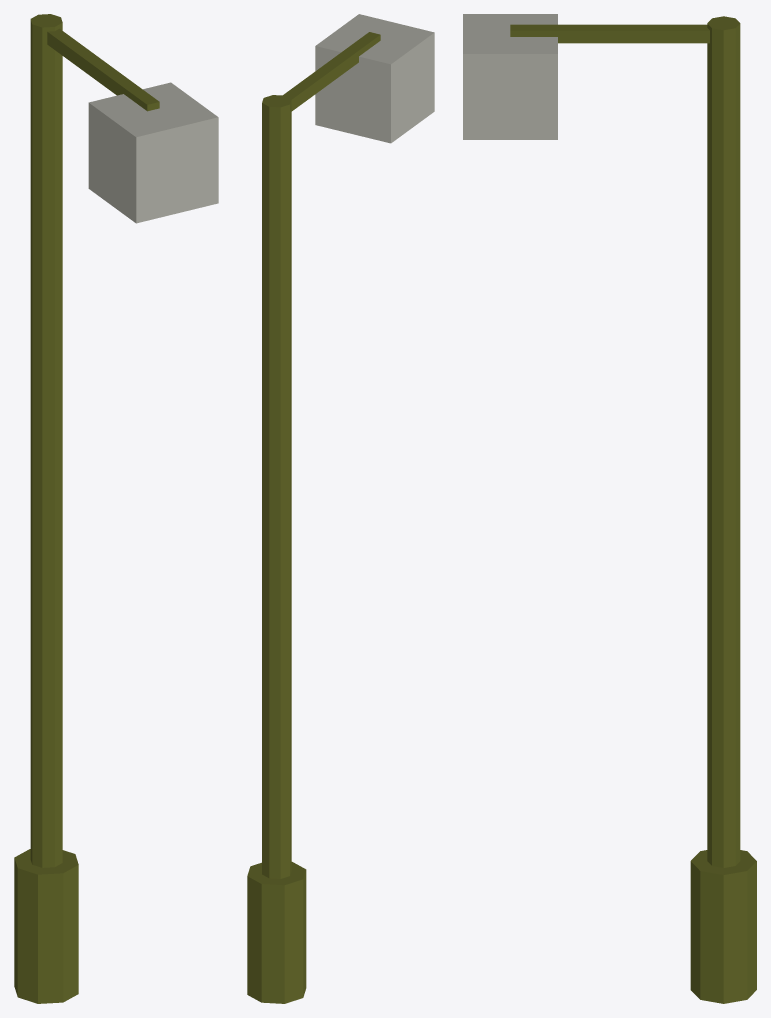
The model's file is SM_KitSueltas_v1_LOD0.fbx.
The picture shows the model from 3 angles, left to right: view 1: azimuth 30°, elevation 25°; view 2: azimuth 150°, elevation 25°; view 3: azimuth 270°, elevation 25°; orthographic projection. The views are drawn at different scales.
Visible parts, largest first — view 1: SM_bloques.kit_sueltas_v1_LOD0; view 2: SM_bloques.kit_sueltas_v1_LOD0; view 3: SM_bloques.kit_sueltas_v1_LOD0.
Boxes of the visible parts, left/top/right/bottom form: SM_bloques.kit_sueltas_v1_LOD0: left=14, top=14, right=218, bottom=1003; SM_bloques.kit_sueltas_v1_LOD0: left=247, top=14, right=434, bottom=1003; SM_bloques.kit_sueltas_v1_LOD0: left=463, top=14, right=756, bottom=1003.
Size of the model in its own units: 0.4 by 4.5 by 1.24.
